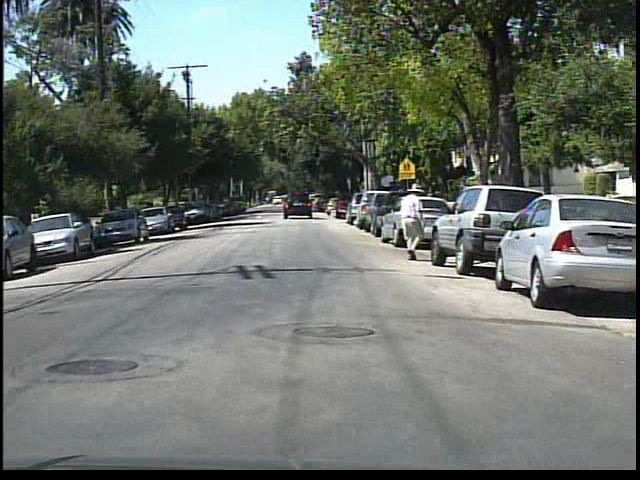person: (390, 183, 435, 265)
